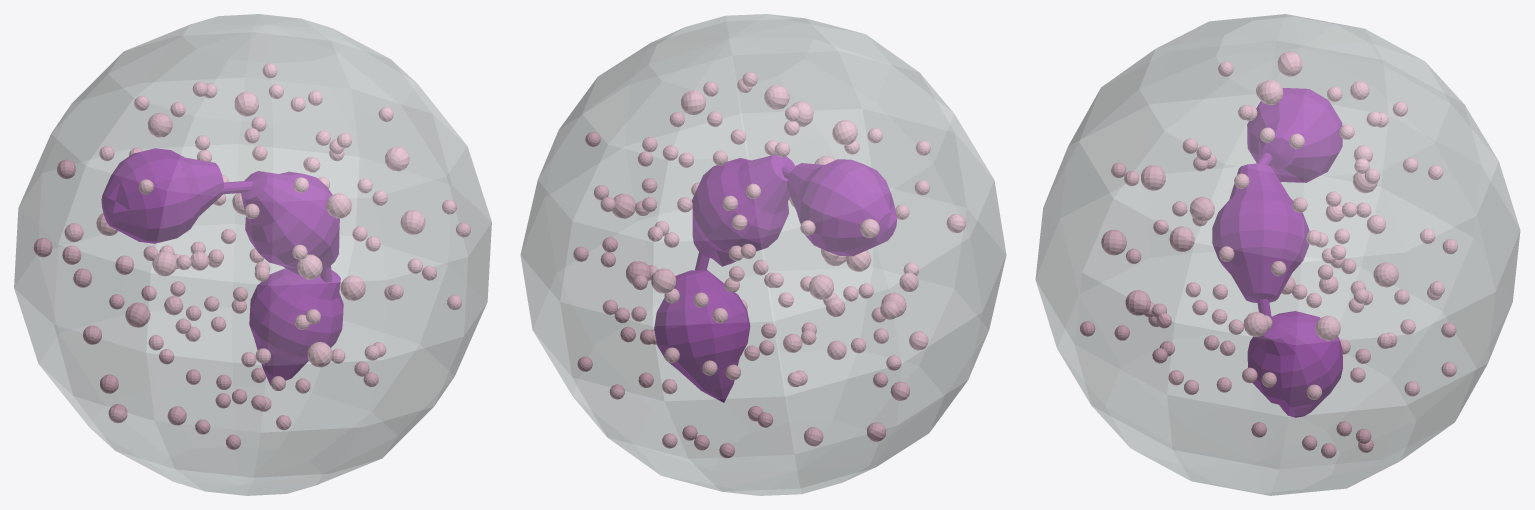
Rendered from model-triangulated.obj.
The picture shows the model from 3 angles, left to right: view 1: azimuth 30°, elevation 25°; view 2: azimuth 150°, elevation 25°; view 3: azimuth 270°, elevation 25°; orthographic projection.
Visible parts, largest first — view 1: group359976719, group1342573826, group309895919, group1013758366, group1095606899, group1750236143, group761726920; view 2: group359976719, group1342573826, group309895919, group1013758366; view 3: group359976719, group1013758366, group309895919, group1342573826, group1750236143, group761726920, group1095606899.
Part boxes in pixels (x1,y1,x2,y2): group359976719: [14, 14, 491, 495]; group1342573826: [101, 148, 223, 243]; group309895919: [249, 268, 343, 385]; group1013758366: [241, 171, 339, 275]; group1095606899: [326, 193, 351, 218]; group1750236143: [307, 342, 332, 367]; group761726920: [340, 275, 365, 300]; group359976719: [520, 14, 1006, 495]; group1342573826: [787, 159, 896, 256]; group309895919: [654, 270, 750, 402]; group1013758366: [692, 154, 795, 266]; group359976719: [1035, 14, 1520, 495]; group1013758366: [1212, 163, 1309, 302]; group309895919: [1247, 311, 1342, 417]; group1342573826: [1247, 88, 1342, 182]; group1750236143: [1125, 290, 1150, 315]; group761726920: [1101, 229, 1126, 255]; group1095606899: [1141, 165, 1165, 190].
Size of the model in its own units: 0.936 by 0.9302 by 0.9351.
